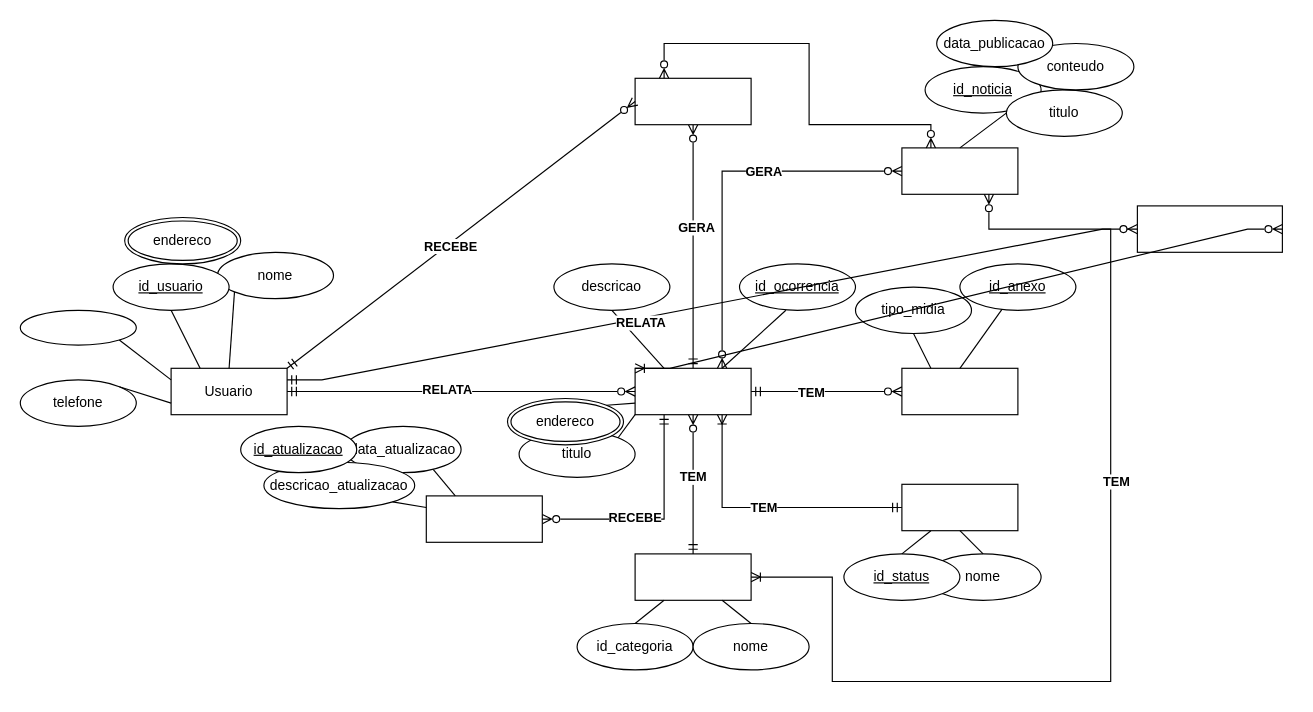
Some shapes in this 1313 by 712 pixel diagram are drawn without their labels. Each missing label, with the centre of its shape:
"Anexo" belongs at pixel 959 391.
"Atualizacao" belongs at pixel 483 518.
"Categoria" belongs at pixel 692 576.
"comentario" belongs at pixel 1209 228.
"email" belongs at pixel 77 327.
"Notificacao" belongs at pixel 692 101.
"Notícia" belongs at pixel 959 170.
"Ocorrencia" belongs at pixel 692 391.
"Status" belongs at pixel 959 507.
